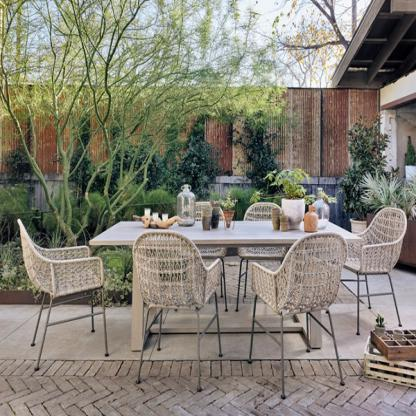table: (86, 214, 364, 350)
